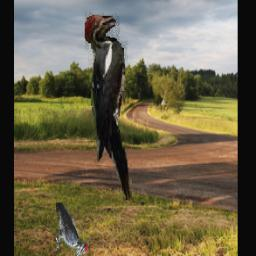Woodpecker: (85, 14, 132, 201), (56, 203, 89, 256)
